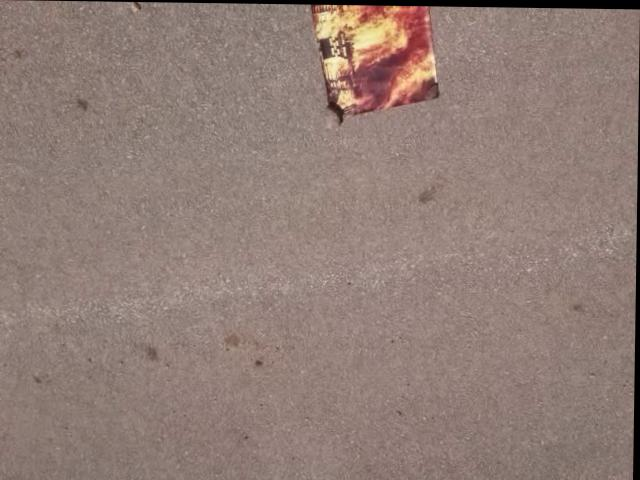fire-poster: (307, 5, 444, 127)
